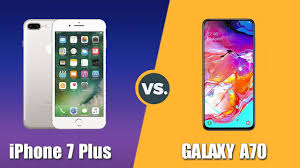iphone: (46, 17, 107, 130)
iphone7: (46, 18, 107, 131)
